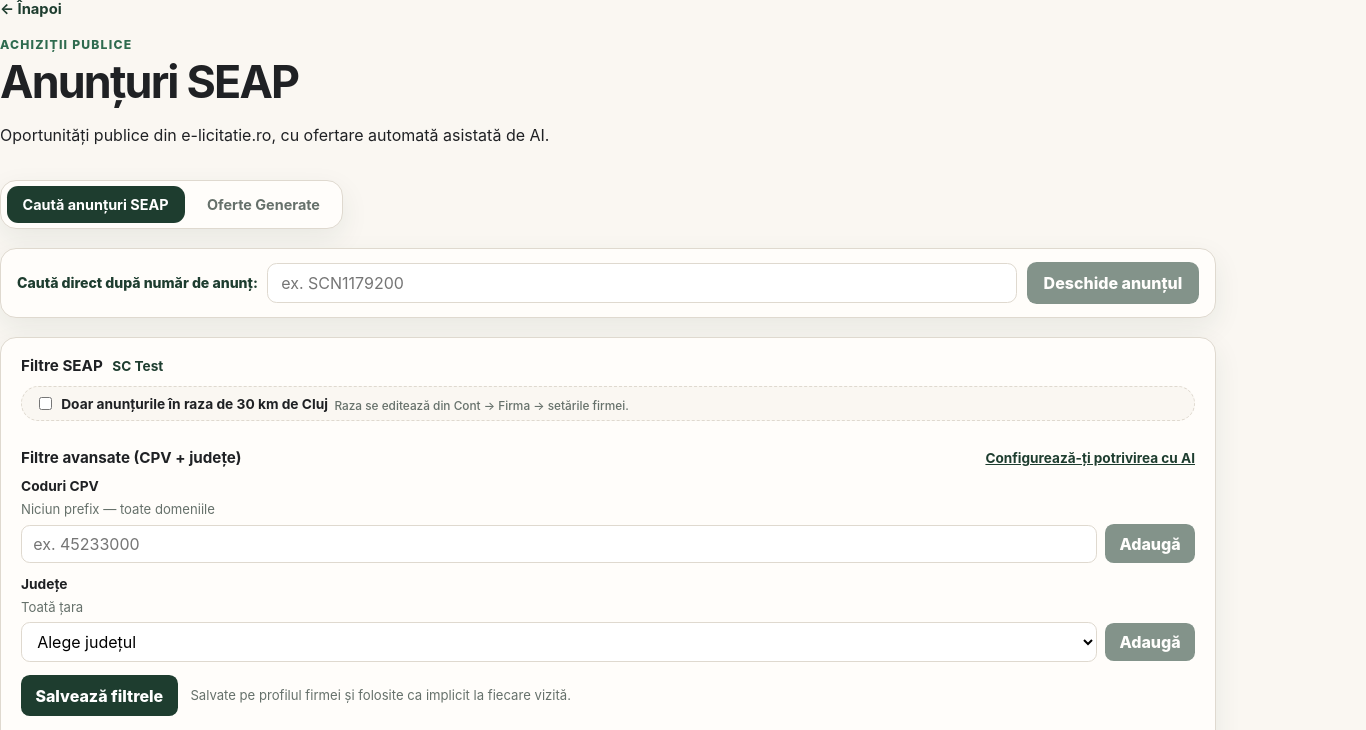
Test case: SeapTendersComponent › surfaces the backend 404/502 message when the direct-hit lookup fails
The width and height of the screenshot is (1366, 730).
Type "SCN9999999" into the field with placeholder "ex. SCN1179200" at coordinates (642, 283), box [268,263,1017,303]
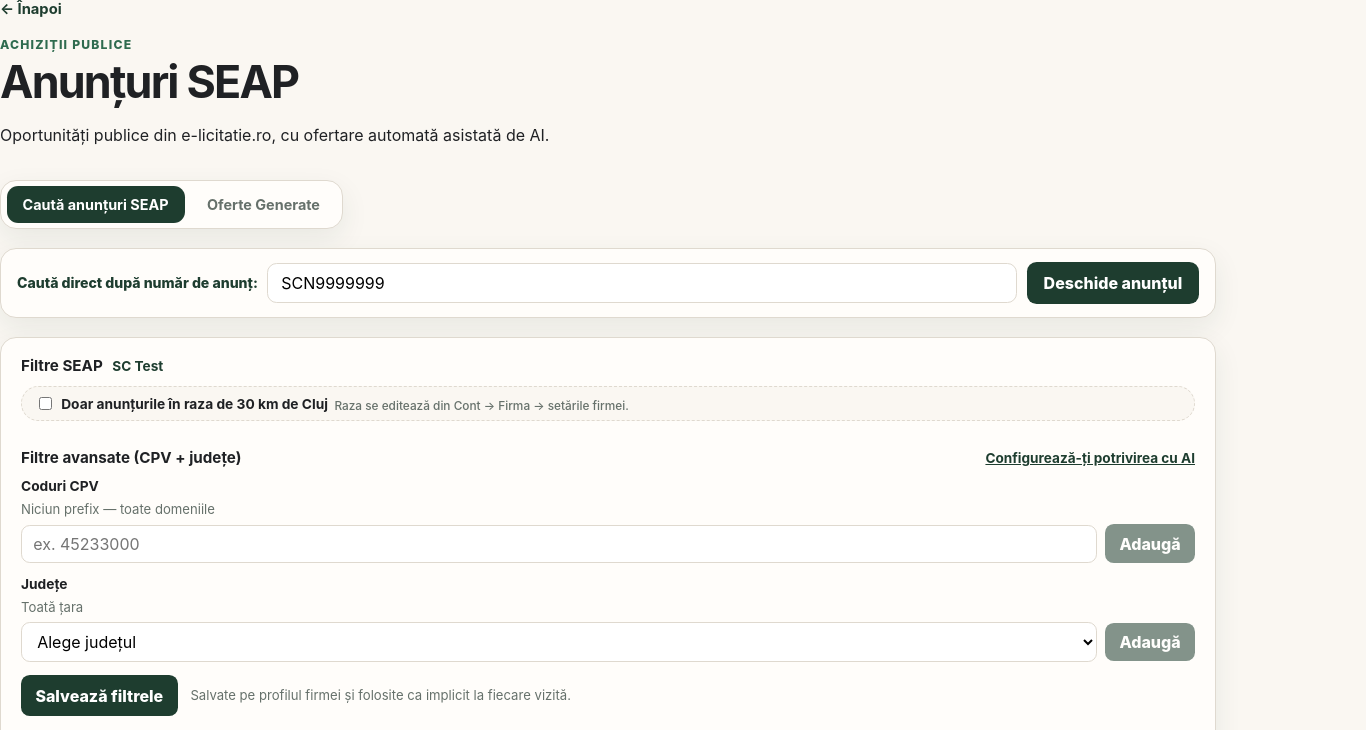
Click the button "Deschide anunțul" at coordinates (1113, 283), box [1027,262,1199,304]
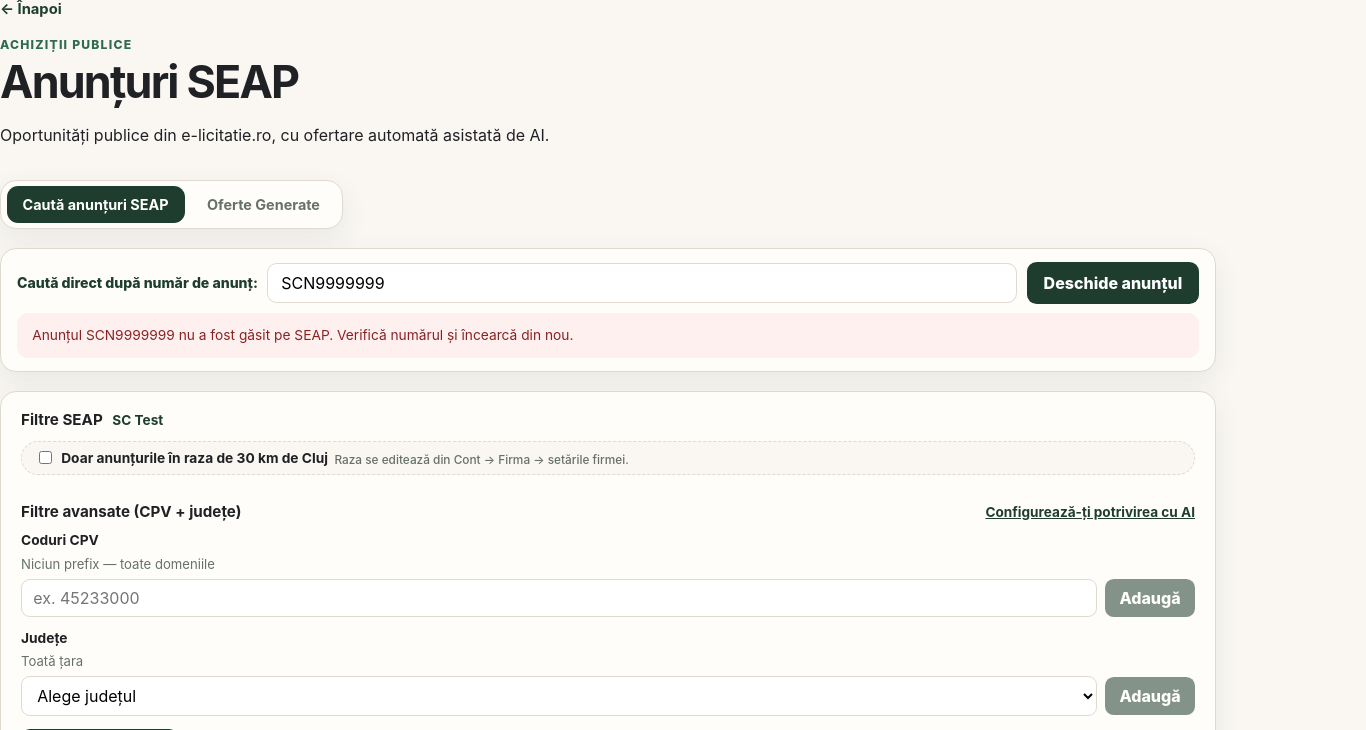
Now the text "nu a fost găsit pe SEAP" is shown, box [32,327,573,343]
